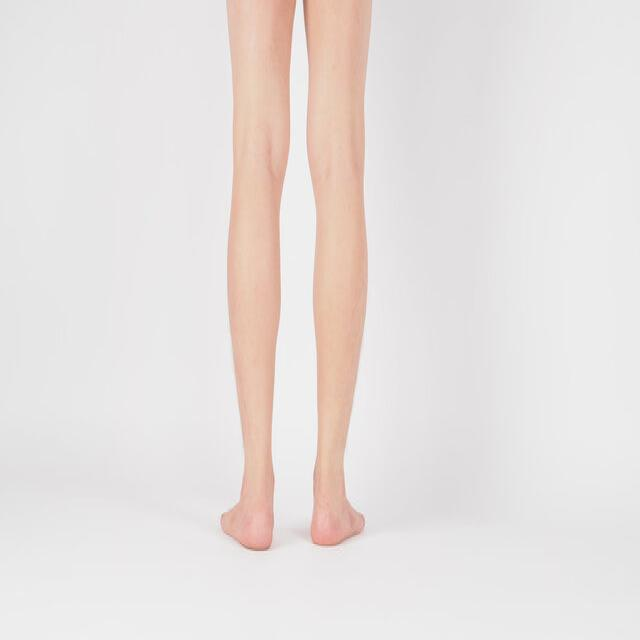Normal: (209, 86, 384, 449)
